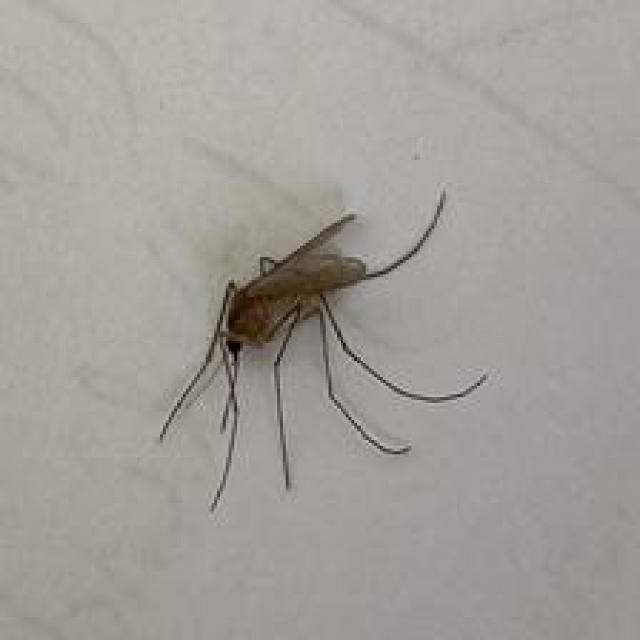Culex: (157, 187, 489, 513)
